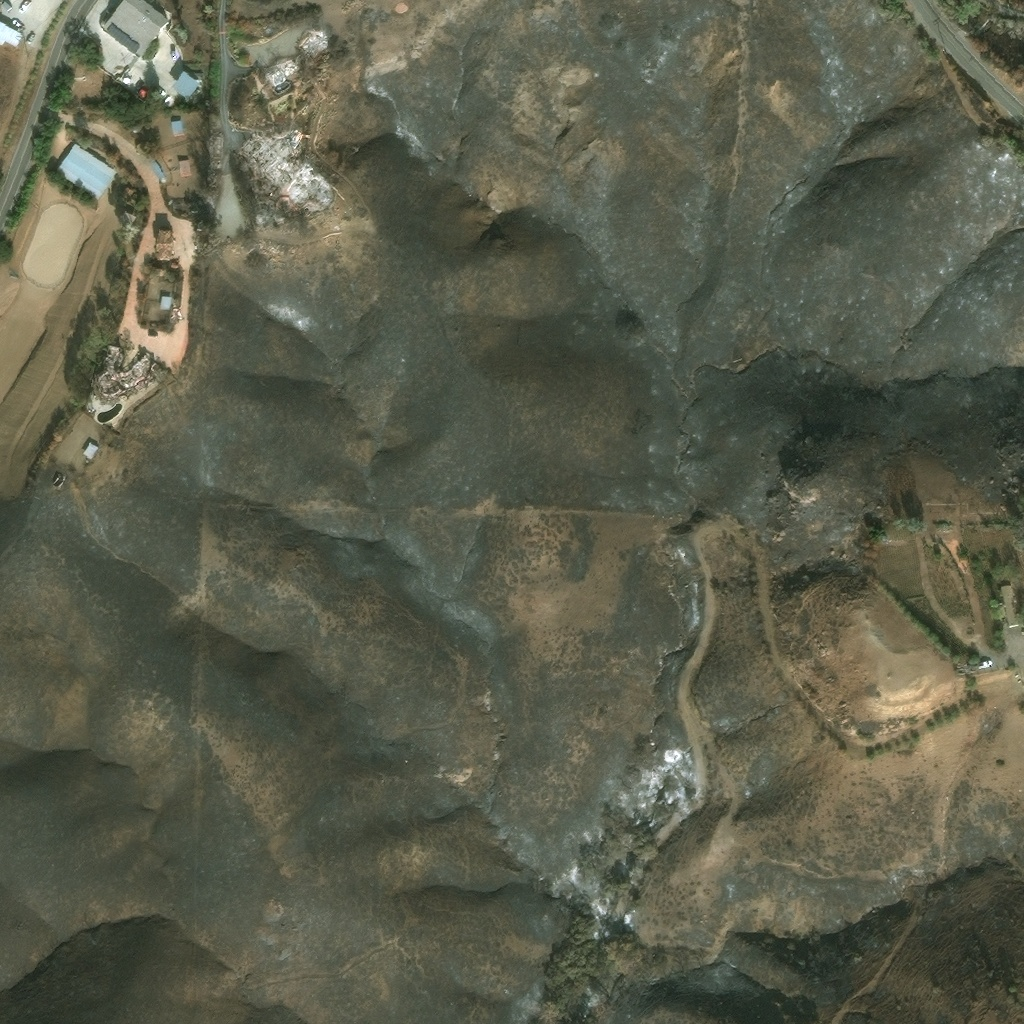0 no-damage: (100, 0, 170, 57), (56, 140, 118, 200), (167, 65, 205, 105), (167, 159, 200, 198), (998, 583, 1020, 627), (82, 440, 99, 459), (171, 115, 185, 133), (160, 296, 171, 308)
1 minor-damage: (155, 228, 177, 261)
3 destroyed: (92, 343, 159, 400), (240, 132, 289, 185), (279, 167, 329, 213), (268, 127, 307, 162), (265, 60, 294, 95), (300, 29, 324, 53)
